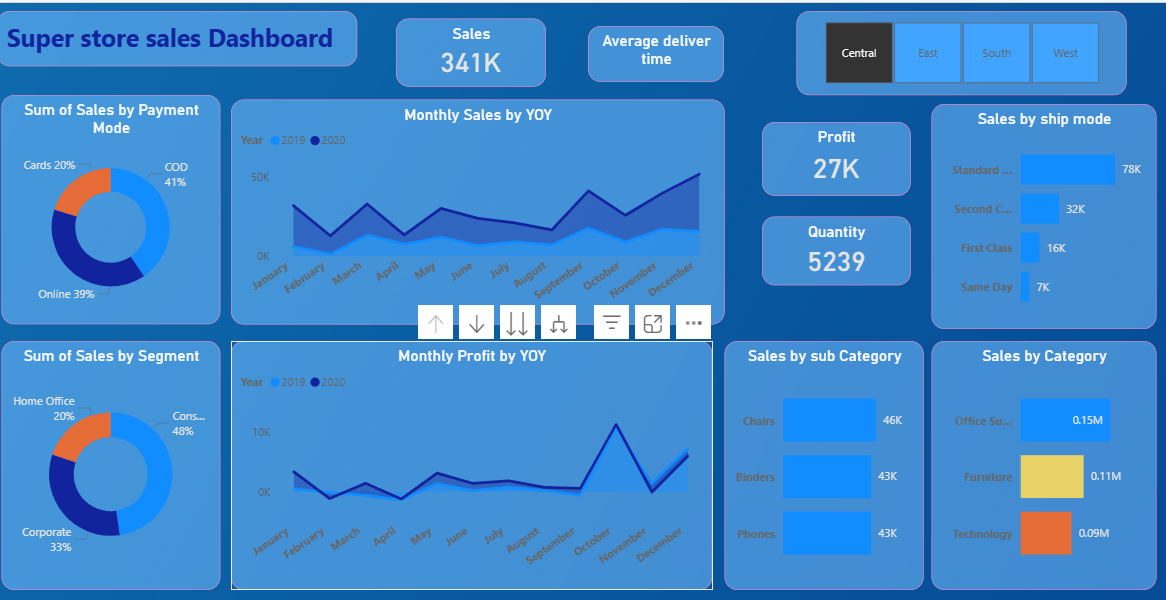

Layout of this report page (visuals, bound fields, positions):
{"tool":"powerbi","page":{"name":"Page 1","canvas":[1280,720],"ordinal":0},"visuals":[{"type":"clusteredBarChart","title":"Sales by Category","fields":{"Category":["SuperStore_Sales_Dataset.Category"],"Y":["Sum(SuperStore_Sales_Dataset.Sales)"]},"box":[1013.3,419.6,244,270],"z":0},{"type":"clusteredBarChart","title":"Sales by  sub Category","fields":{"Category":["SuperStore_Sales_Dataset.Sub-Category"],"Y":["Sum(SuperStore_Sales_Dataset.Sales)"]},"box":[788.9,419.6,216.3,270],"z":1000},{"type":"clusteredBarChart","title":"Sales by  ship mode  ","fields":{"Category":["SuperStore_Sales_Dataset.Ship Mode"],"Y":["Sum(SuperStore_Sales_Dataset.Sales)"]},"box":[1013.3,162.7,244,244],"z":2000},{"type":"stackedAreaChart","title":"Monthly Sales by YOY","fields":{"Y":["Sum(SuperStore_Sales_Dataset.Sales)"],"Category":["SuperStore_Sales_Dataset.Order Date.Variation.Date Hierarchy.Month","SuperStore_Sales_Dataset.Order Date.Variation.Date Hierarchy.Day"],"Series":["SuperStore_Sales_Dataset.Order Date.Variation.Date Hierarchy.Year"]},"box":[253.7,157.8,535.1,244],"z":3000},{"type":"stackedAreaChart","title":"Monthly Profit by YOY","fields":{"Category":["SuperStore_Sales_Dataset.Order Date.Variation.Date Hierarchy.Month","SuperStore_Sales_Dataset.Order Date.Variation.Date Hierarchy.Day"],"Series":["SuperStore_Sales_Dataset.Order Date.Variation.Date Hierarchy.Year"],"Y":["Sum(SuperStore_Sales_Dataset.Profit)"]},"box":[253.7,419.6,522.1,270],"z":4000},{"type":"donutChart","fields":{"Category":["SuperStore_Sales_Dataset.Segment"],"Y":["Sum(SuperStore_Sales_Dataset.Sales)"]},"box":[4.9,419.6,237.5,270],"z":5000},{"type":"donutChart","title":"Sum of Sales by Payment Mode","fields":{"Category":["SuperStore_Sales_Dataset.Payment Mode"],"Y":["Sum(SuperStore_Sales_Dataset.Sales)"]},"box":[4.9,152.9,237.5,248.9],"z":6000},{"type":"slicer","fields":{"Values":["SuperStore_Sales_Dataset.Region"]},"box":[866.9,61.8,357.8,91.1],"z":7000},{"type":"textbox","box":[0,61.8,390.4,60.2],"z":8000},{"type":"card","title":"Sales","fields":{"Values":["Sum(SuperStore_Sales_Dataset.Sales)"]},"box":[432.8,69.9,162.5,73.7],"z":9000},{"type":"card","title":"Quantity","fields":{"Values":["Sum(SuperStore_Sales_Dataset.Quantity)"]},"box":[829.5,284.6,161,74.8],"z":10000},{"type":"card","title":"Profit","fields":{"Values":["Sum(SuperStore_Sales_Dataset.Profit)"]},"box":[829.5,182.2,161,79.7],"z":11000},{"type":"card","title":"Average deliver time","fields":{"Values":["Avg(SuperStore_Sales_Dataset.Avg deliver)"]},"box":[640.6,77.5,147.4,60.5],"z":12000}]}

Visuals, with their boxes on the page's 1280x720 design canvas (x1, y1, x2, y2). These are canvas units, not pixel positions in the 1166x600 screenshot, which may show the page scaled, cropped or inside an application window:
"Sales by Category" clusteredBarChart: crop(1013, 420, 1257, 690)
"Sales by  sub Category" clusteredBarChart: crop(789, 420, 1005, 690)
"Sales by  ship mode  " clusteredBarChart: crop(1013, 163, 1257, 407)
"Monthly Sales by YOY" stackedAreaChart: crop(254, 158, 789, 402)
"Monthly Profit by YOY" stackedAreaChart: crop(254, 420, 776, 690)
donutChart - SuperStore_Sales_Dataset.Segment x Sum(SuperStore_Sales_Dataset.Sales): crop(5, 420, 242, 690)
"Sum of Sales by Payment Mode" donutChart: crop(5, 153, 242, 402)
slicer - SuperStore_Sales_Dataset.Region: crop(867, 62, 1225, 153)
textbox: crop(0, 62, 390, 122)
"Sales" card: crop(433, 70, 595, 144)
"Quantity" card: crop(830, 285, 990, 359)
"Profit" card: crop(830, 182, 990, 262)
"Average deliver time" card: crop(641, 78, 788, 138)
